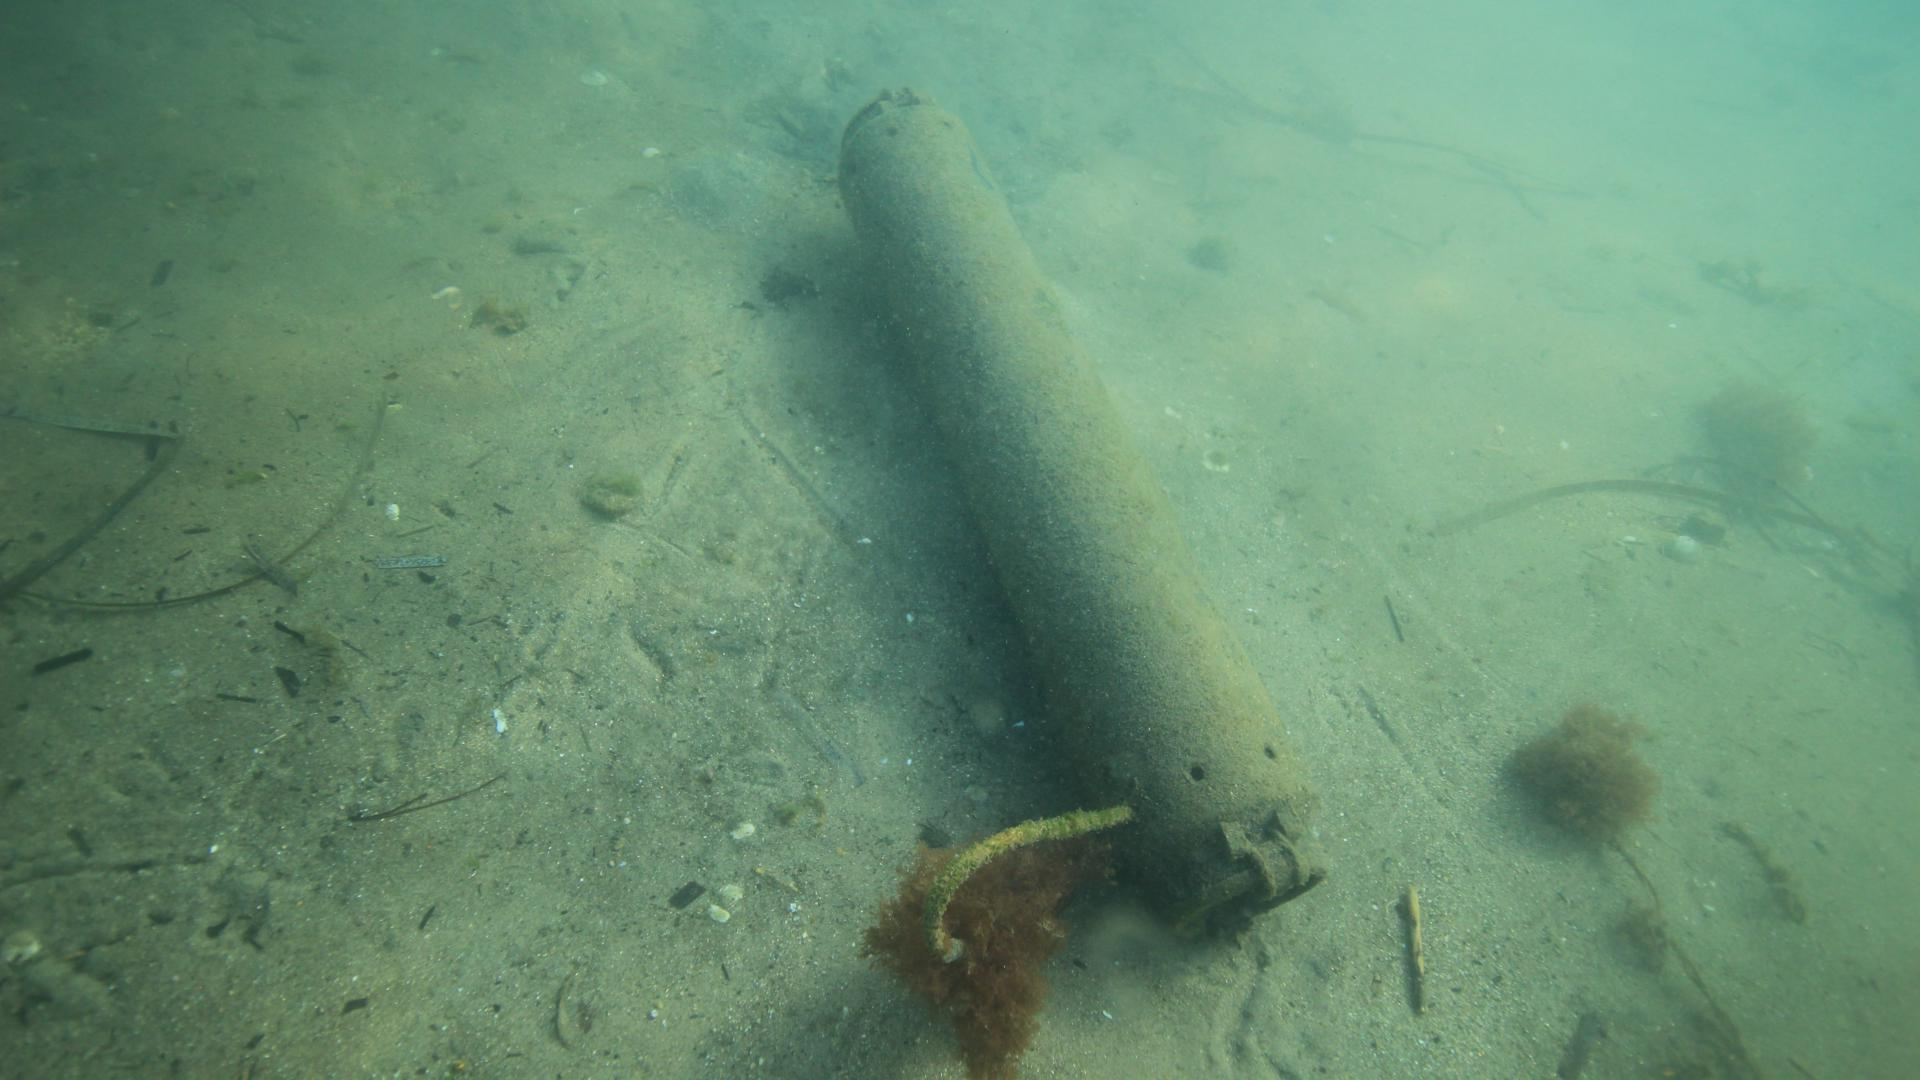eel fish trap: (837, 88, 1332, 935)
rope: (919, 802, 1142, 955)
